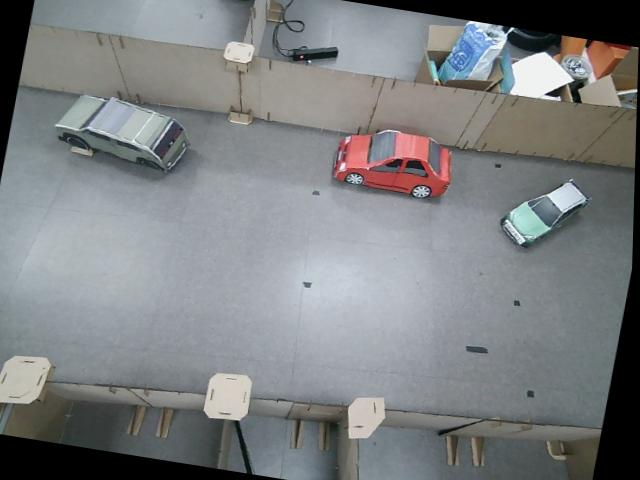car: (47, 87, 197, 176), (327, 121, 458, 204), (499, 170, 591, 255)
